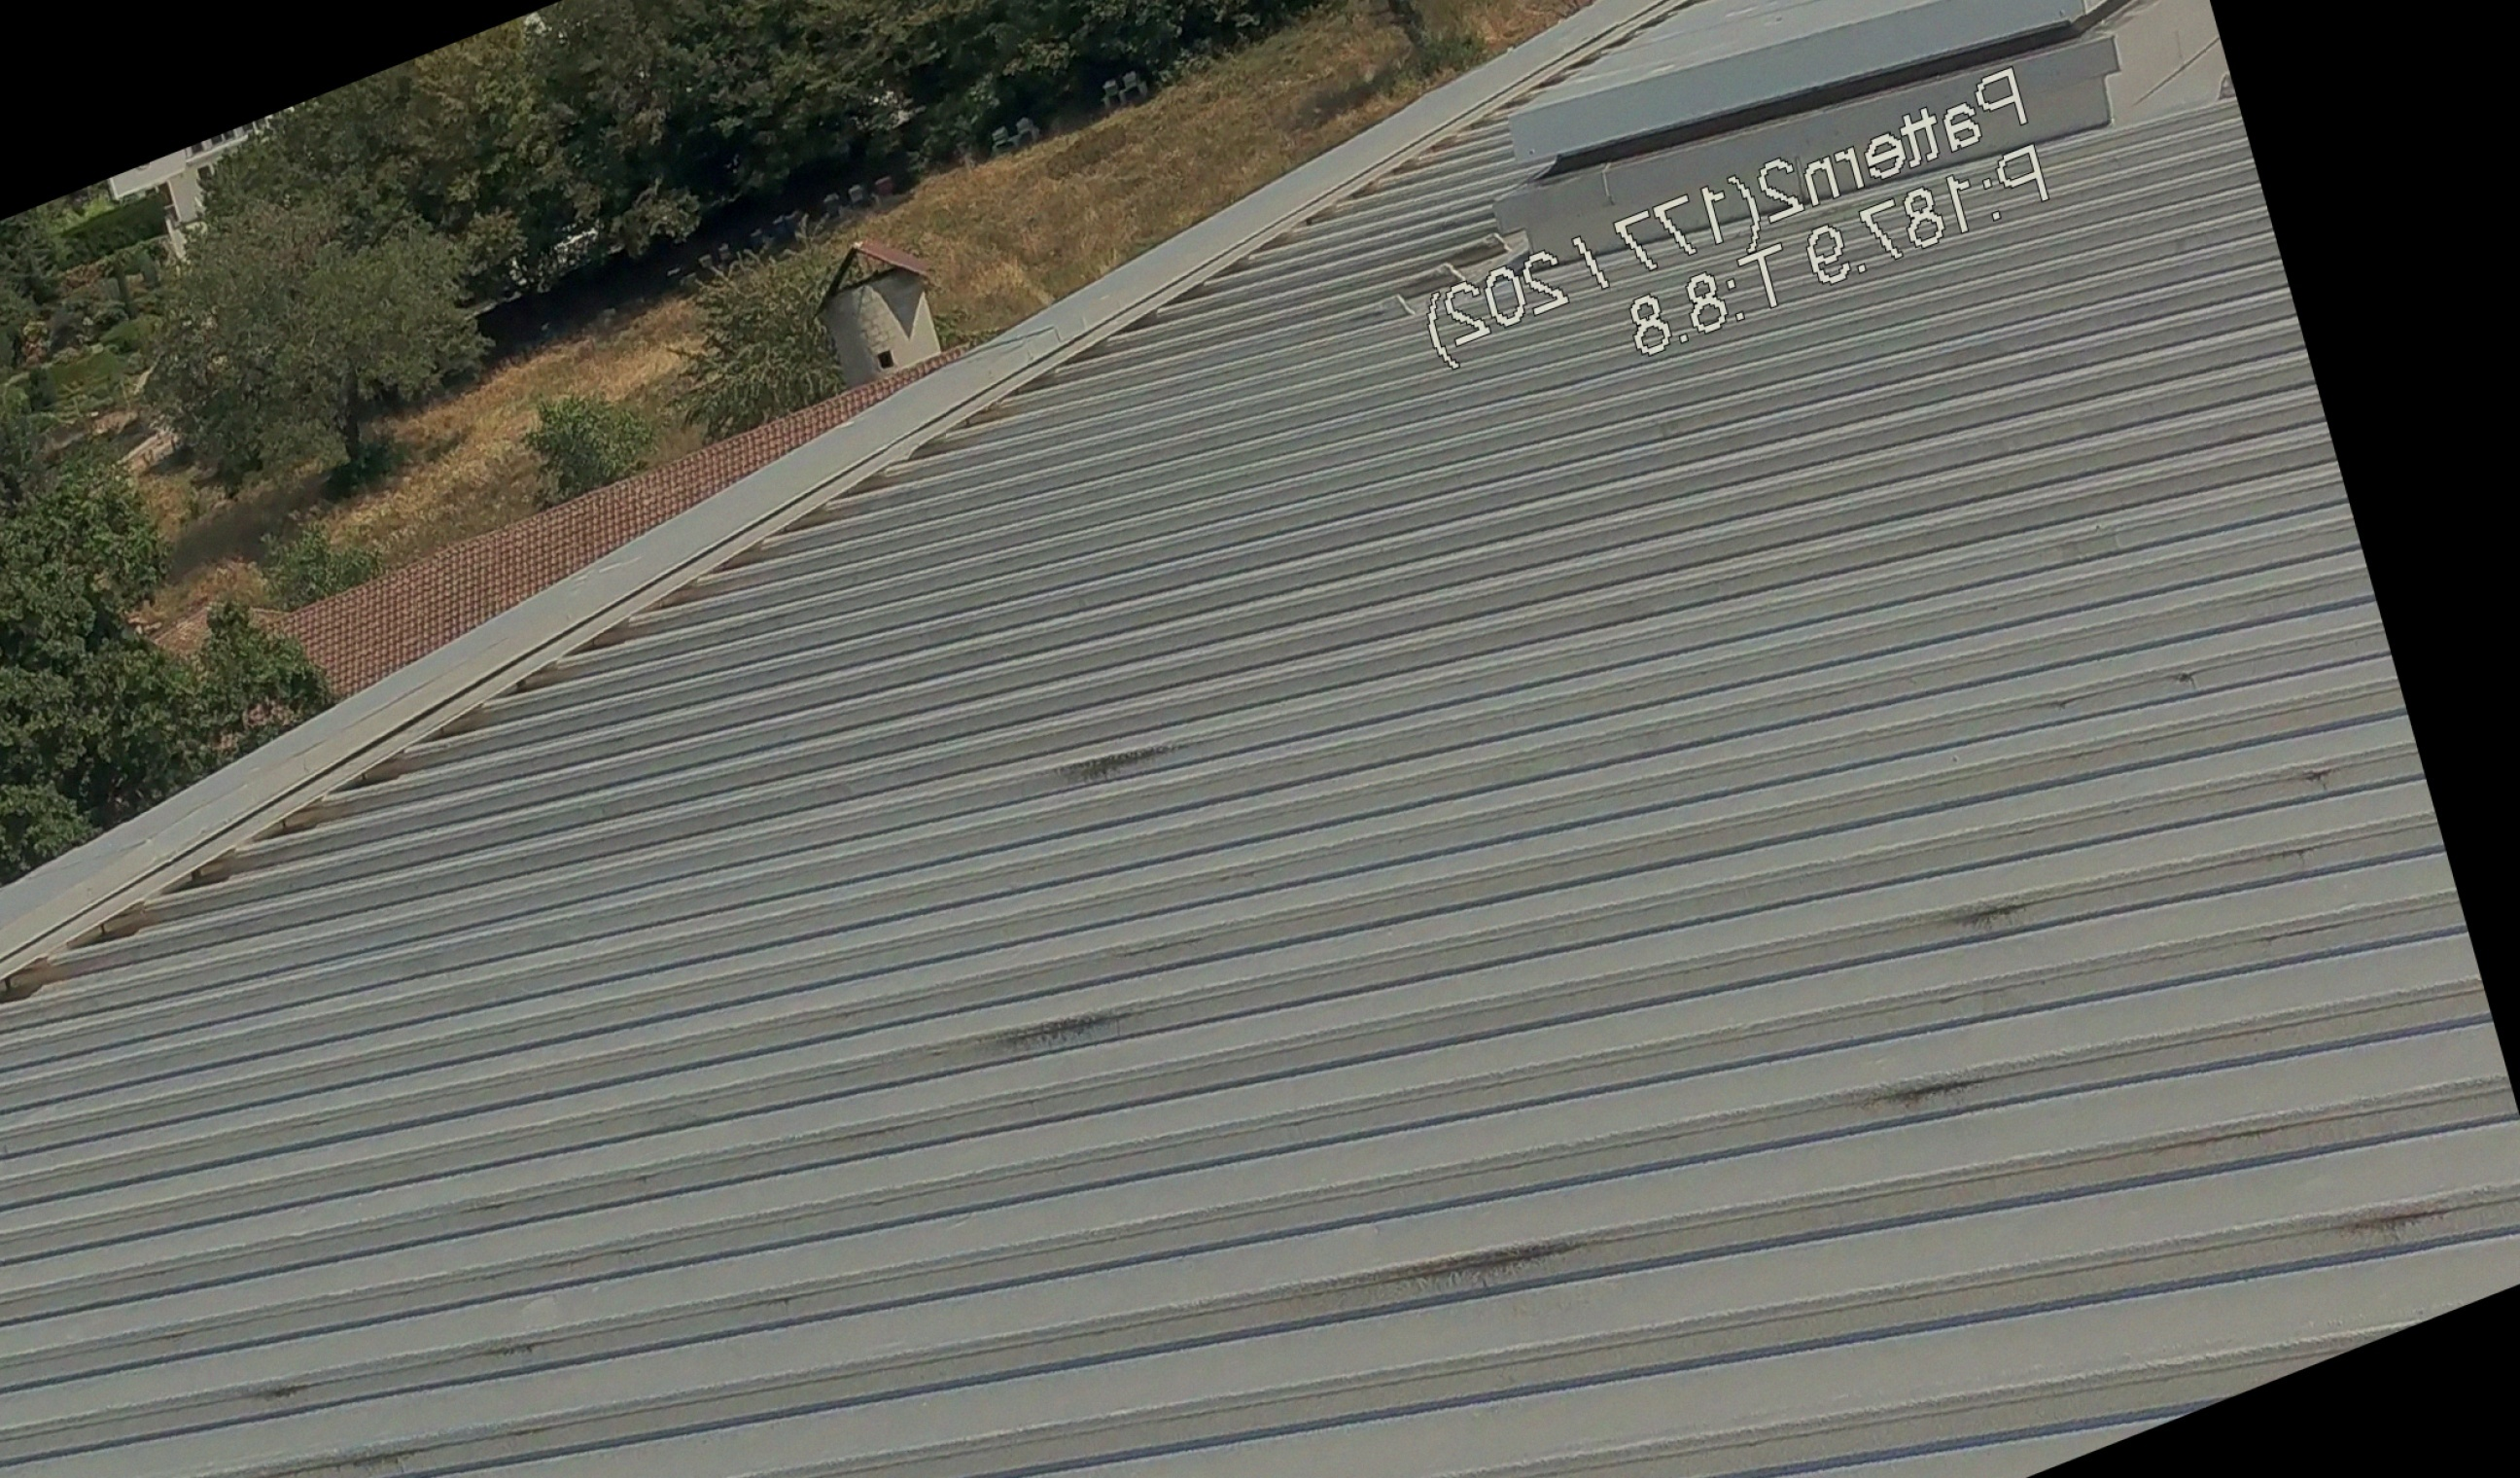Other: (788, 208, 967, 412)
